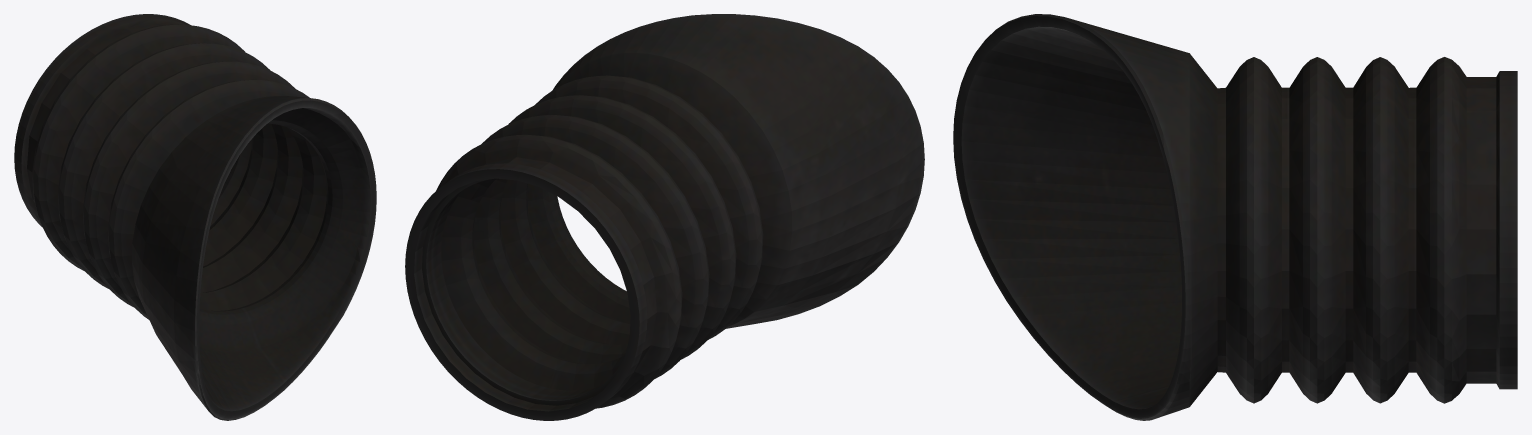
3 renders of one model, left to right at view 1: azimuth 30°, elevation 25°; view 2: azimuth 150°, elevation 25°; view 3: azimuth 270°, elevation 25°, orthographic. The views are drawn at different scales.
Parts seen in each view (by area): view 1: TW_63fc4533b10b17385349b565_PZ_Import; view 2: TW_63fc4533b10b17385349b565_PZ_Import; view 3: TW_63fc4533b10b17385349b565_PZ_Import.
Part boxes in pixels (x1=…): TW_63fc4533b10b17385349b565_PZ_Import: x1=14, y1=14, x2=376, y2=420; TW_63fc4533b10b17385349b565_PZ_Import: x1=405, y1=14, x2=924, y2=420; TW_63fc4533b10b17385349b565_PZ_Import: x1=953, y1=14, x2=1517, y2=420.
Size of the model in its own units: 0.0329 by 0.0465 by 0.0334.
Materials: 1 (1 with a texture image).
